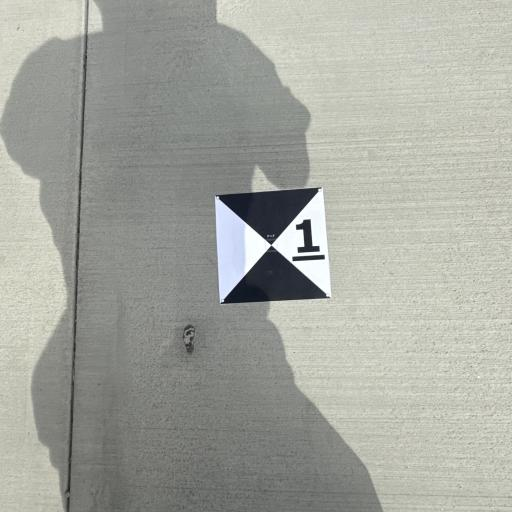target1: (209, 187, 341, 312)
